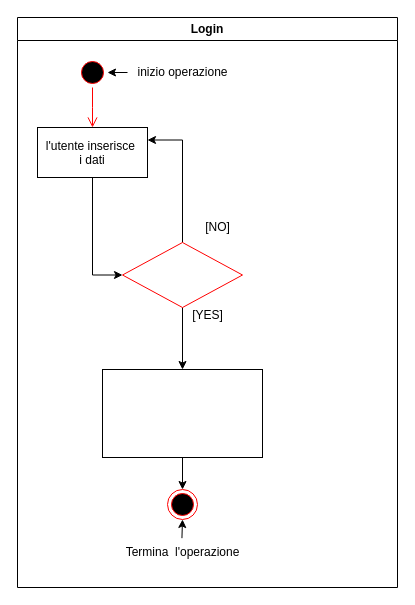
The diagram is 415 pixels wide and 605 high, and some of its shapes have lost their labels. The centre of each missing label's shape, as x and y in pixels:
"controllo condizioni" belongs at [182,275].
"l'utente seleziona il profilo entra nell'account" belongs at [182,413].
